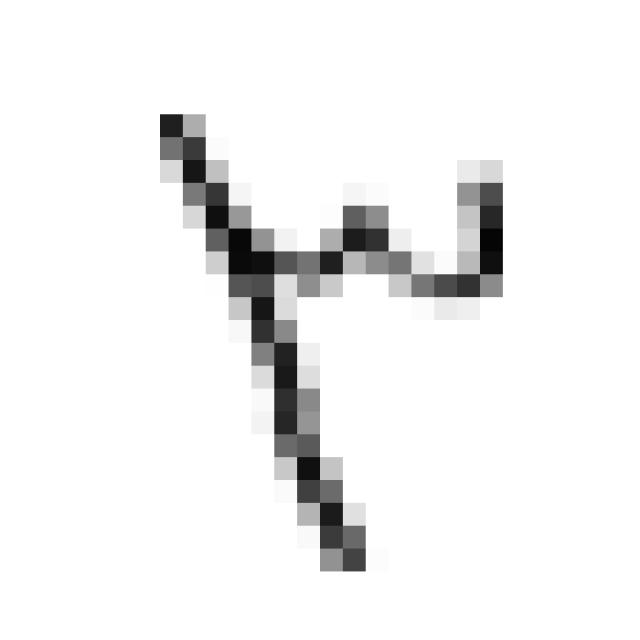3 -three-: (137, 91, 520, 586)
